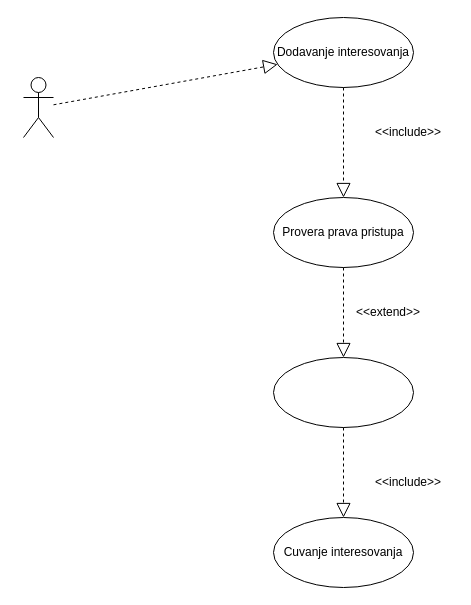
Some shapes in this 471 by 605 pixel diagram are drawn without their labels. Each missing label, with the centre of its shape:
"Kori snik" goes at point (38, 107).
"Unos informacija o interesovanju" goes at point (343, 392).
